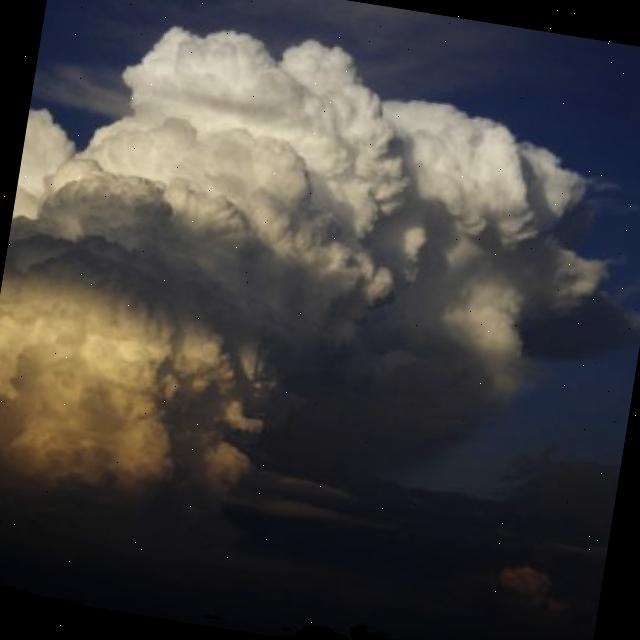Cb: (1, 1, 640, 579)
